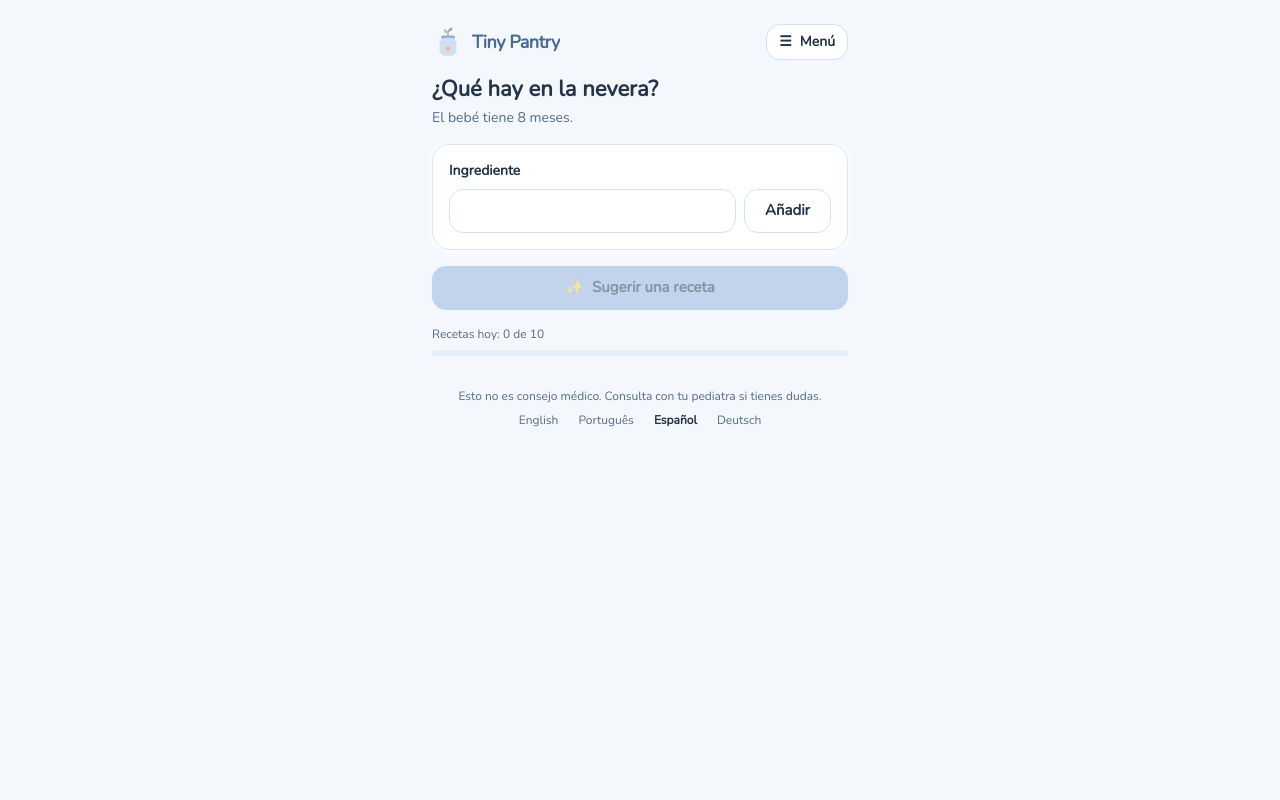
Scenario: the delete-account dialog is fully in es
This screenshot has width=1280, height=800.
Click the button "☰ Menú" at (807, 42), box [766, 24, 848, 60]
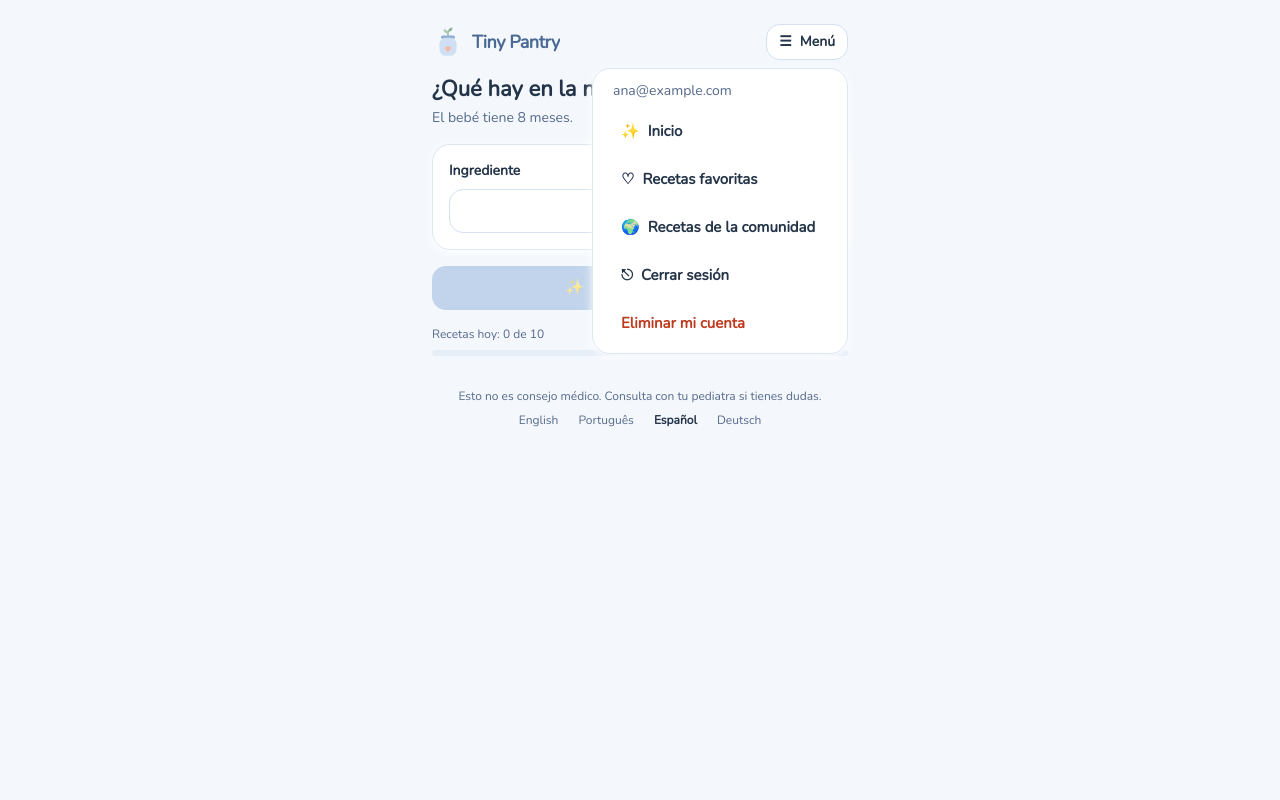
Click the button "Eliminar mi cuenta" at (720, 323), box [601, 301, 839, 345]
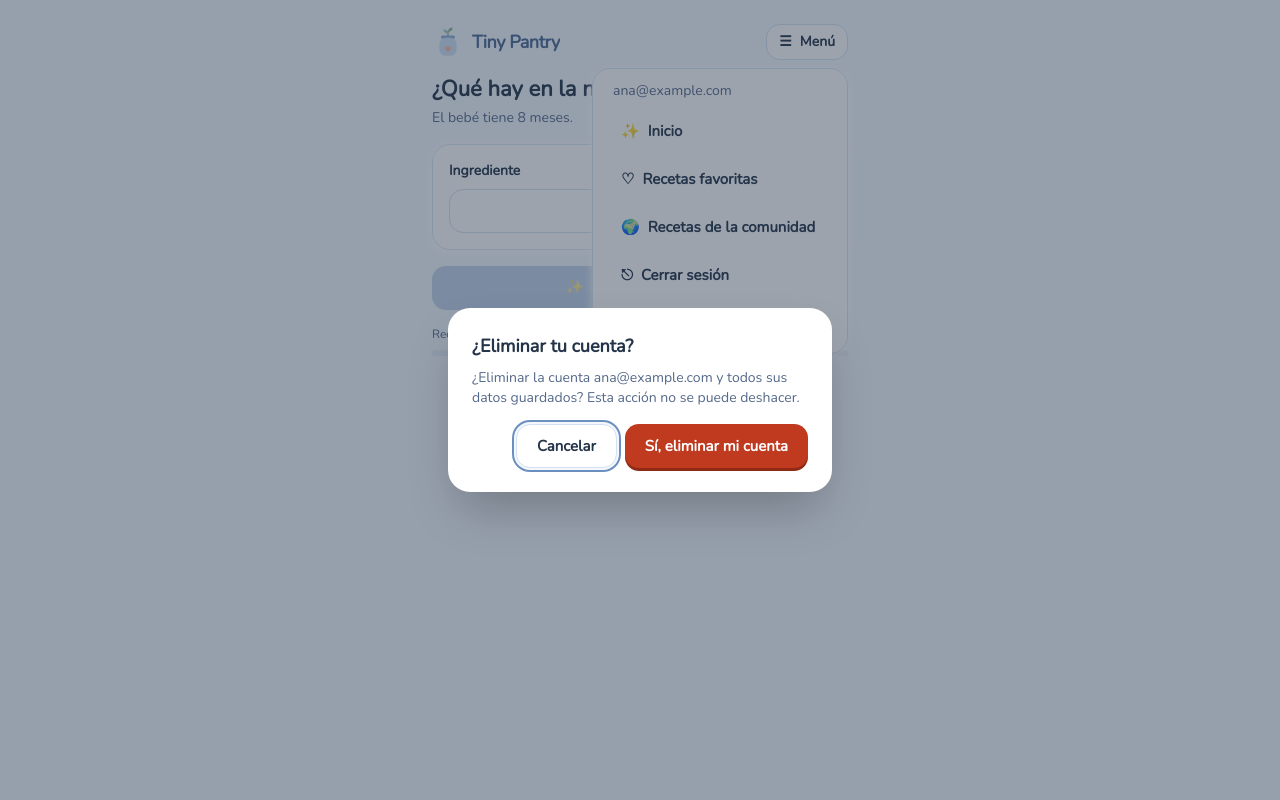
Expected: the button "Cancelar" is shown, [516, 424, 617, 468]
Expected: the button "Sí, eliminar mi cuenta" is shown, [625, 424, 808, 468]
